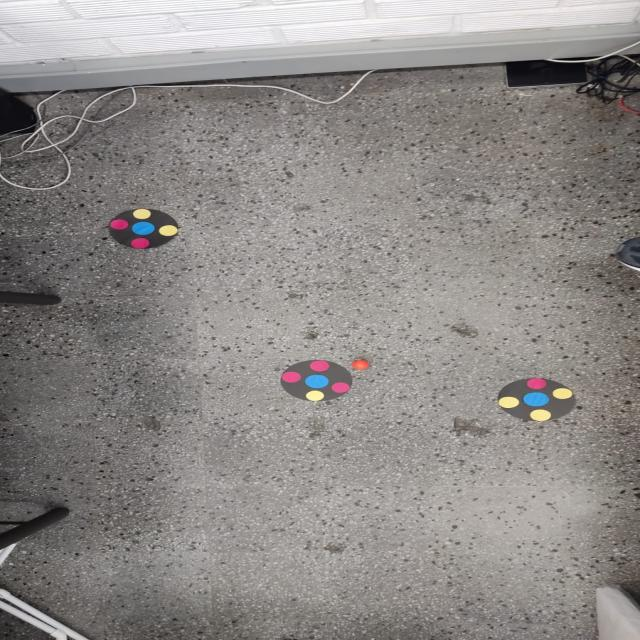0: (280, 359, 354, 402)
1: (109, 208, 179, 249)
2: (498, 378, 576, 422)
Ball: (352, 360, 369, 369)
